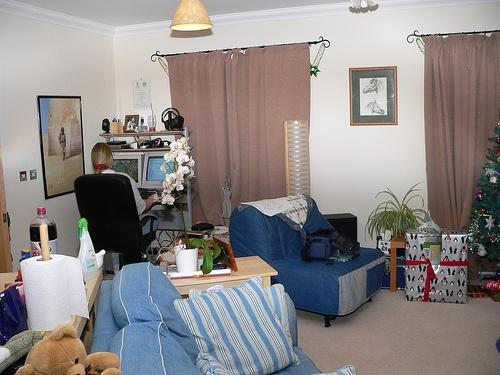tampered: (418, 211, 442, 274)
